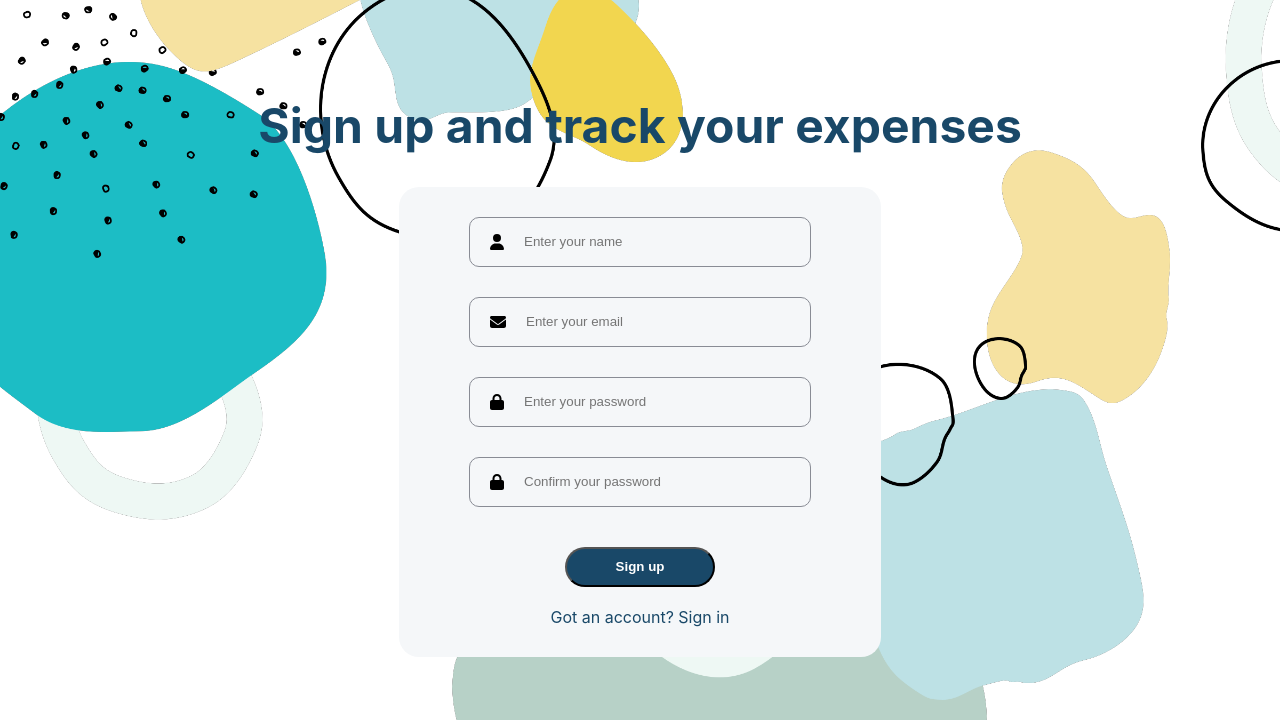
Scenario: Register › when typing in password › if password is too long › shows the correct error
In the password field with placeholder "Enter your password": [640, 402] box [504,376,776,428], type "seddoeiusmodtemporincididuntutlaboreetdoloremagnaaliqua. "
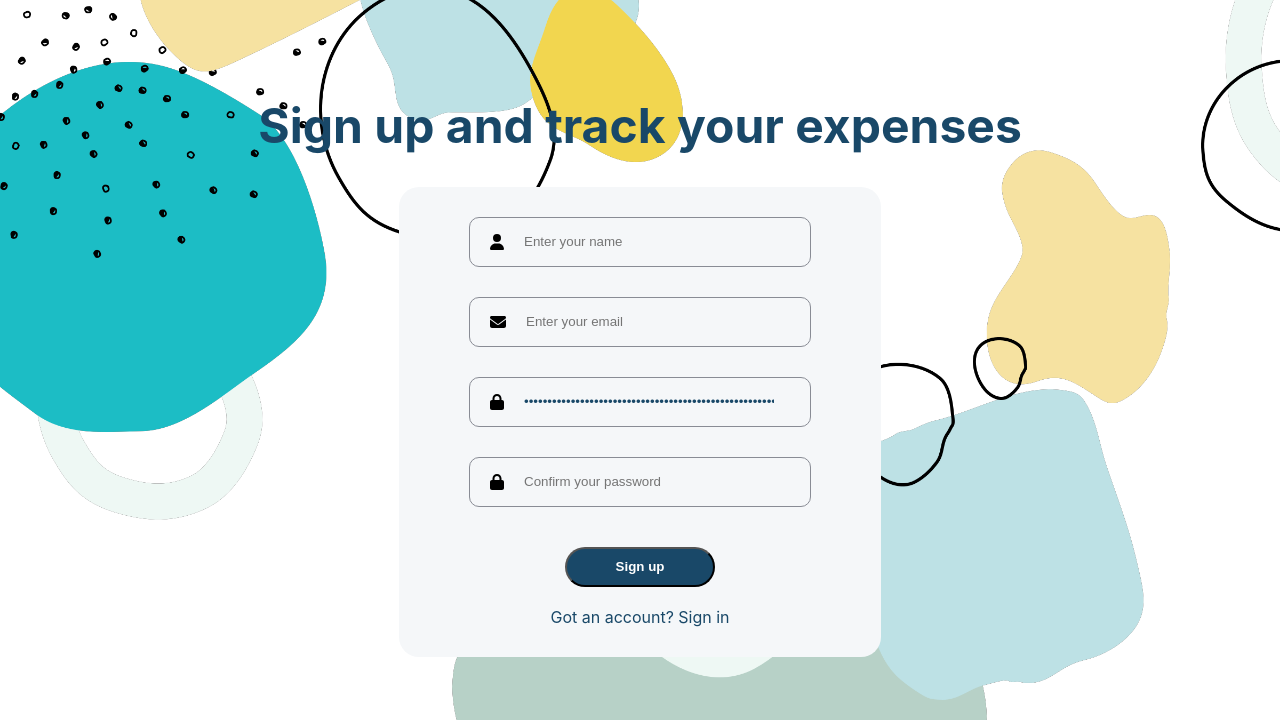
Click the heading "Sign up and track your expenses": [640, 125] box [258,96,1022,154]
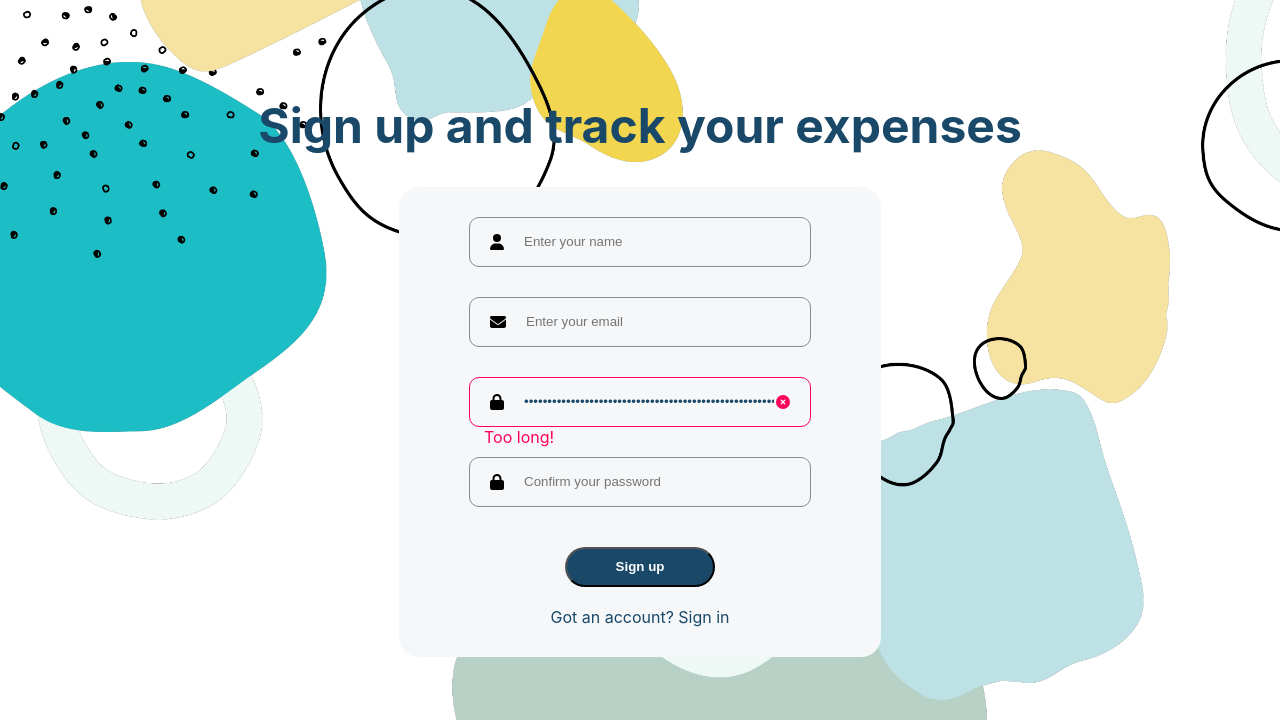
Result: the text "Too long!" is shown at [484,427,554,447]
